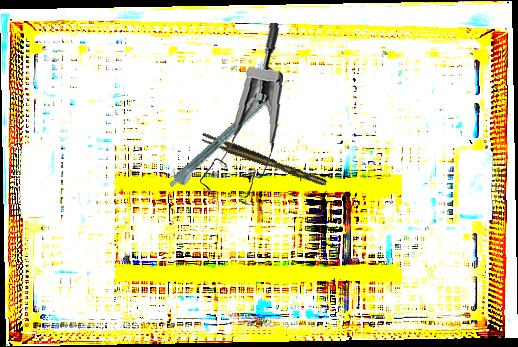Handpiece: (166, 86, 284, 194)
Speculum: (192, 22, 290, 208)
Tissue Forceps: (199, 128, 328, 193)
